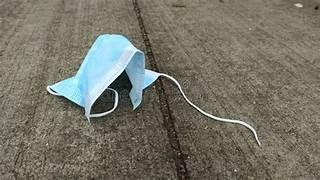Mask: (47, 34, 259, 144)
